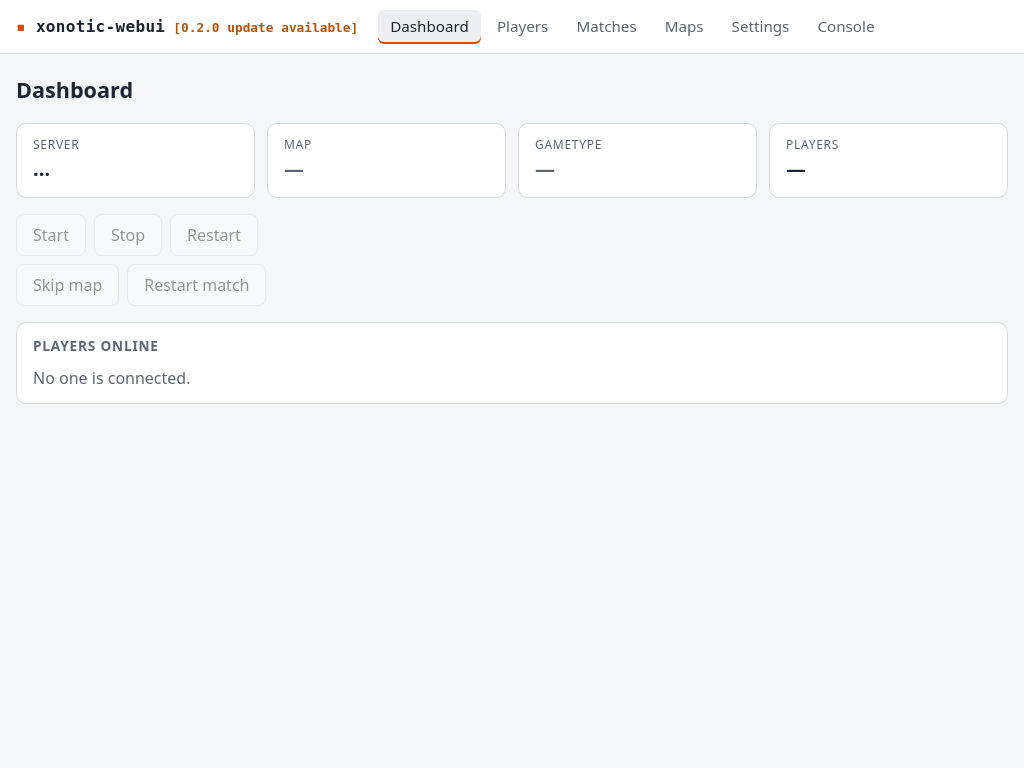
Test: panel page (8.1) › is opened by the header version
Click the link "[0.2.0 update available]": x=266, y=27 [173, 18, 358, 37]
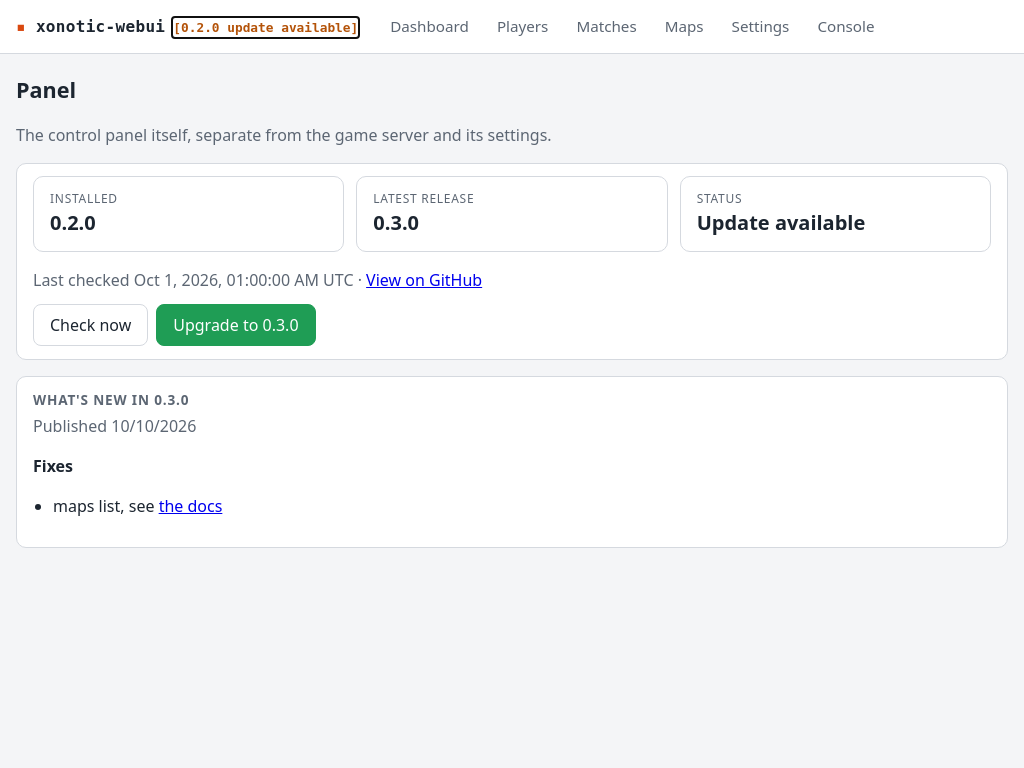
Expected: the heading "Panel" is shown, [16, 75, 76, 104]
